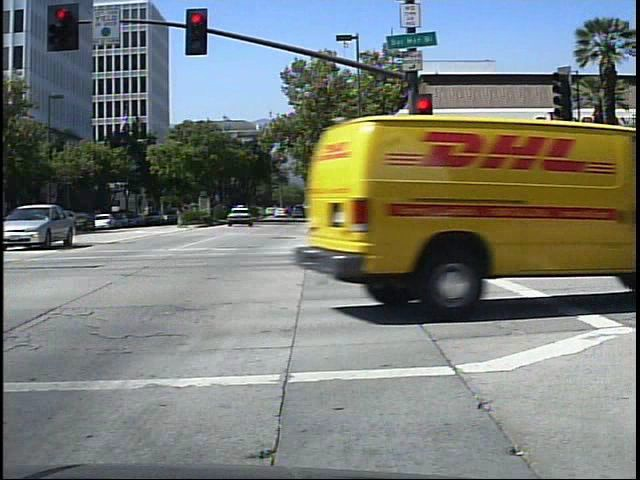person: (282, 204, 296, 222)
